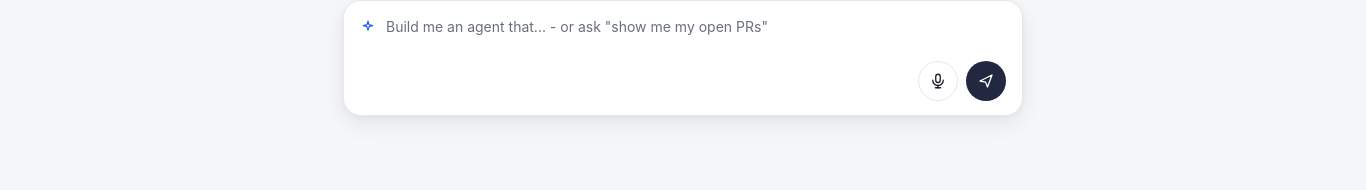
Scenario: CommandBar - docked mode (active transcript) › shows the provider/model attribution line for a successful reply
The width and height of the screenshot is (1366, 190).
Step 1. Type "first command" into the field with placeholder "Build me an agent that... - or ask \"show me my open PRs\"" → [696, 27], box 386,17 -> 1006,37
Then press Enter
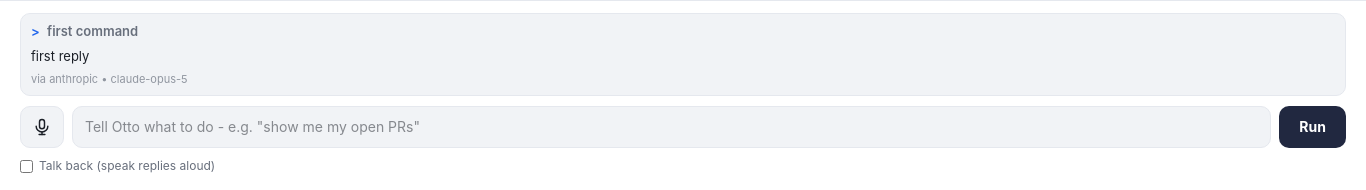
Expected: the text "first reply" is shown, 31,48 -> 89,64
Expected: the text "via anthropic • claude-opus-5" is shown, 31,72 -> 188,86
